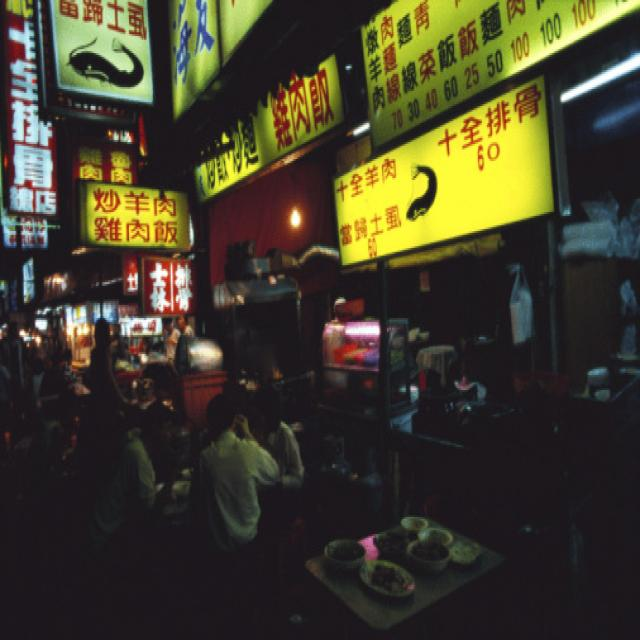People: (191, 383, 265, 559), (108, 384, 188, 531), (256, 374, 314, 490), (91, 282, 143, 383)
Table: (302, 503, 515, 640)
